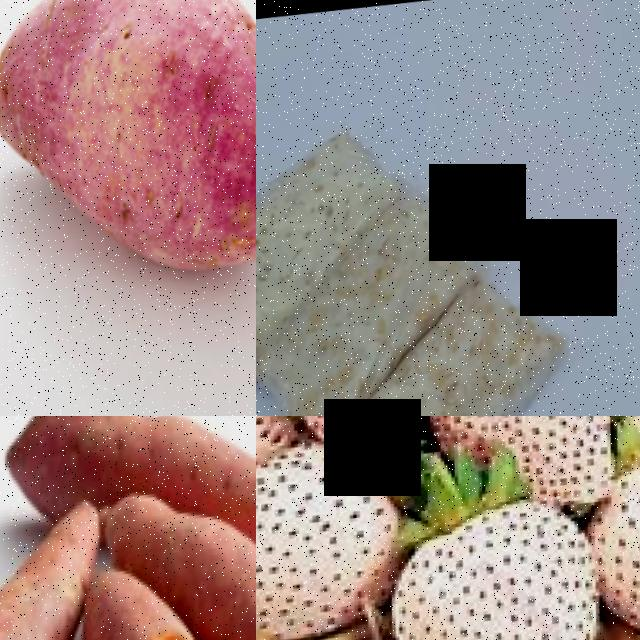strawberry: (383, 496, 635, 640), (256, 447, 430, 640), (420, 416, 637, 477), (591, 444, 640, 640)
sweet potato: (0, 0, 256, 310), (0, 416, 256, 518), (0, 496, 125, 640), (71, 556, 248, 640)
tempeh: (256, 188, 488, 416), (327, 277, 597, 416), (256, 162, 349, 389)
